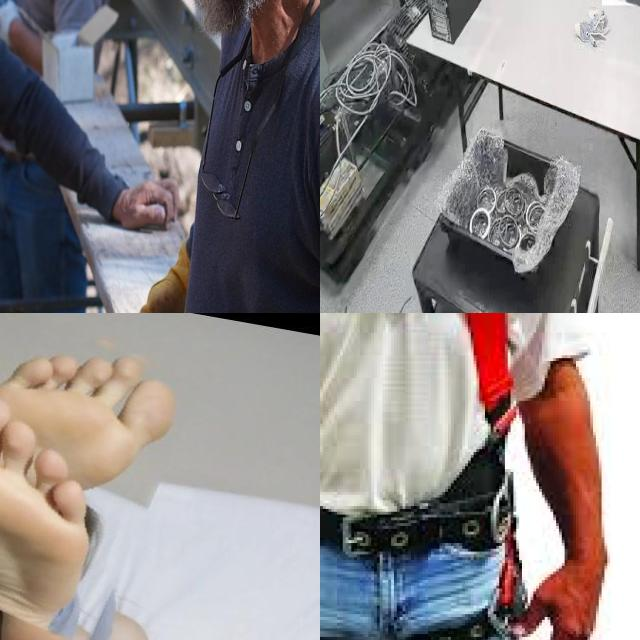Barefoots: (0, 347, 179, 556), (0, 415, 106, 640)
Harness: (320, 313, 529, 640)
